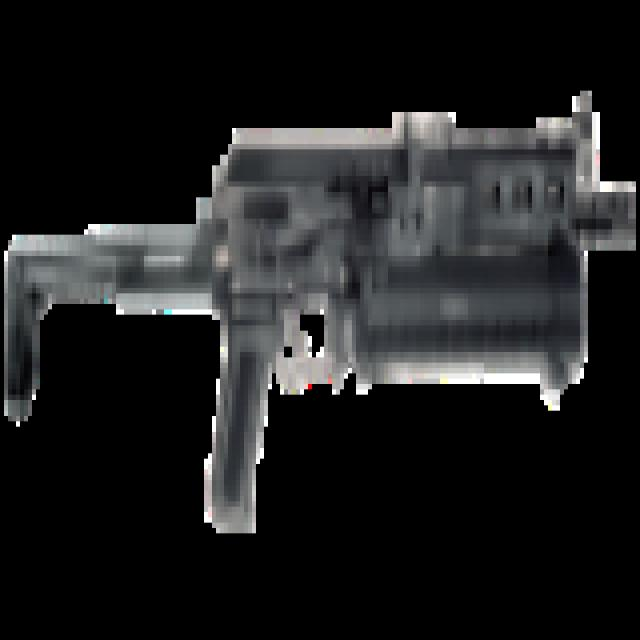Gun: (0, 59, 640, 549)
